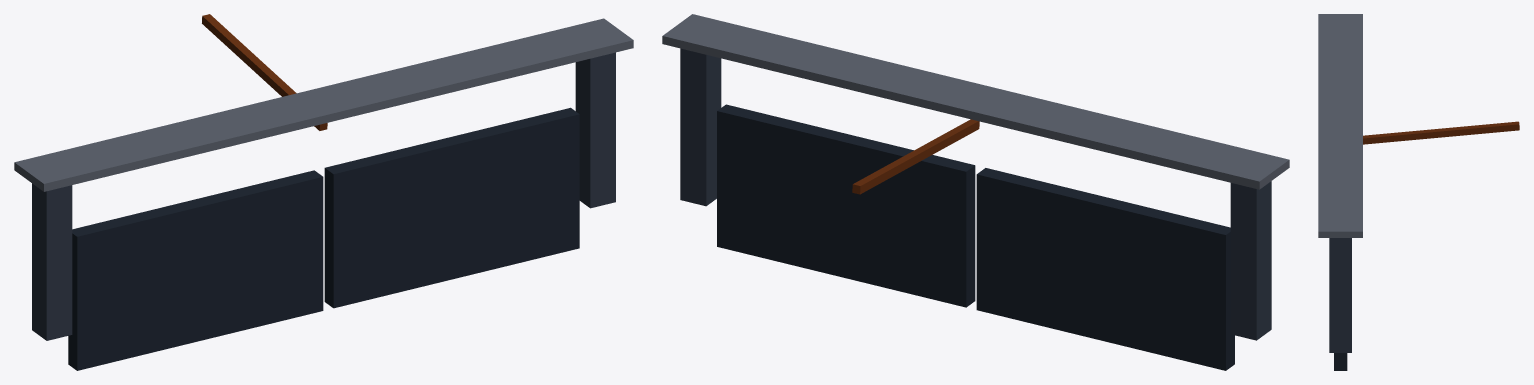
Rendered from lock-gate-structure.baseline.glb.
The picture shows the model from 3 angles, left to right: view 1: azimuth 30°, elevation 25°; view 2: azimuth 150°, elevation 25°; view 3: azimuth 270°, elevation 25°; orthographic projection. The views are drawn at different scales.
Parts seen in each view (by area): view 1: Lock-gate-structureBody; view 2: Lock-gate-structureBody; view 3: Lock-gate-structureBody.
Part boxes in pixels (<box>): Lock-gate-structureBody: <box>14,14,633,370</box>; Lock-gate-structureBody: <box>662,14,1289,370</box>; Lock-gate-structureBody: <box>1318,14,1519,370</box>.
Size of the model in its own units: 11.5 by 3.83 by 4.5.
